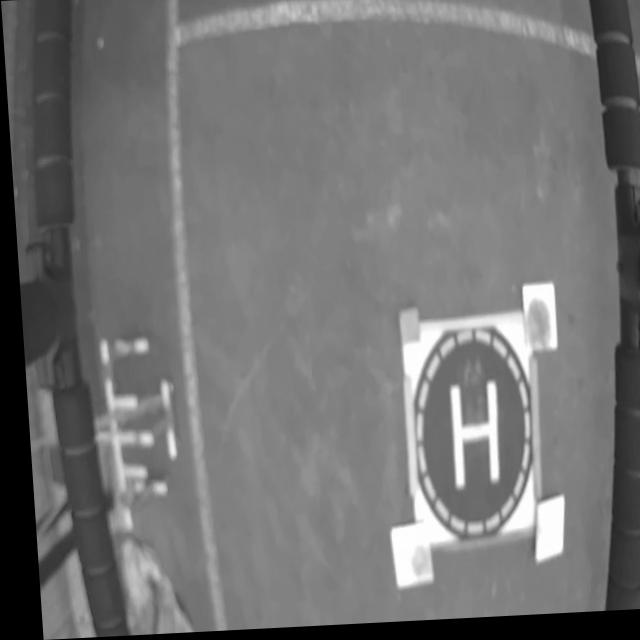Helipad: (443, 386, 491, 494)
